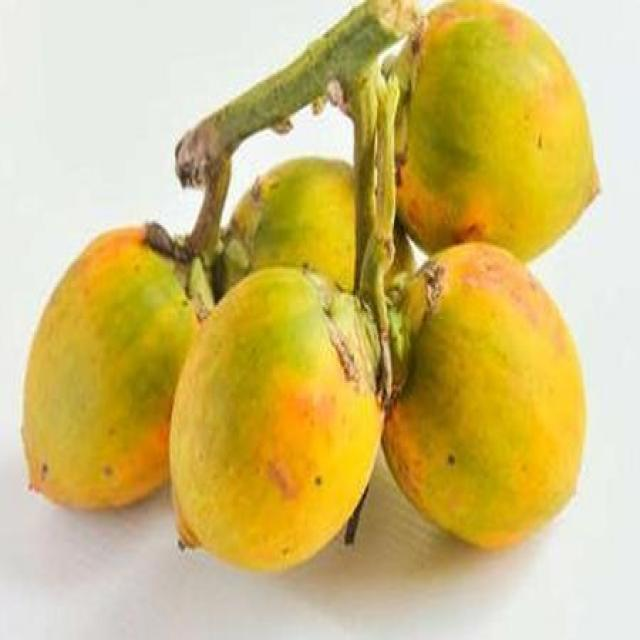good: (168, 263, 395, 574), (381, 241, 589, 552), (395, 0, 602, 265), (20, 227, 198, 514), (218, 158, 357, 297)
